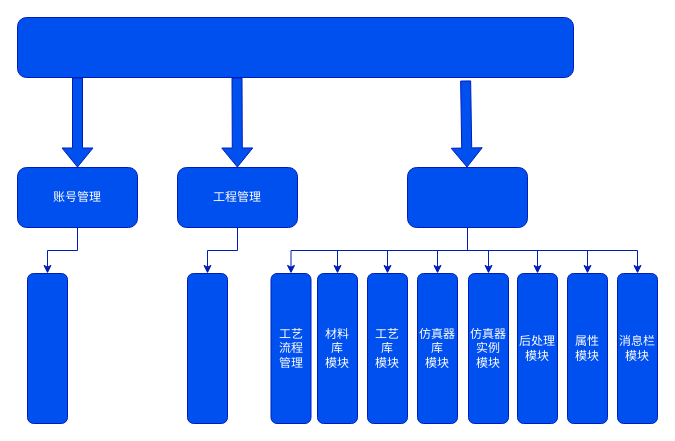
The diagram is 675 pixels wide and 441 high, and some of its shapes have lost their labels. The shapes that lost their labels are listed below. From the top down, each one's box as (x1, y1, x2, y2) in pixels, then its label:
(16, 16, 574, 78): WebVTCad（功能模块图）
(406, 166, 528, 228): 应用模块
(26, 272, 68, 424): 用 户 管 理
(186, 272, 228, 424): 工 程 管 理
